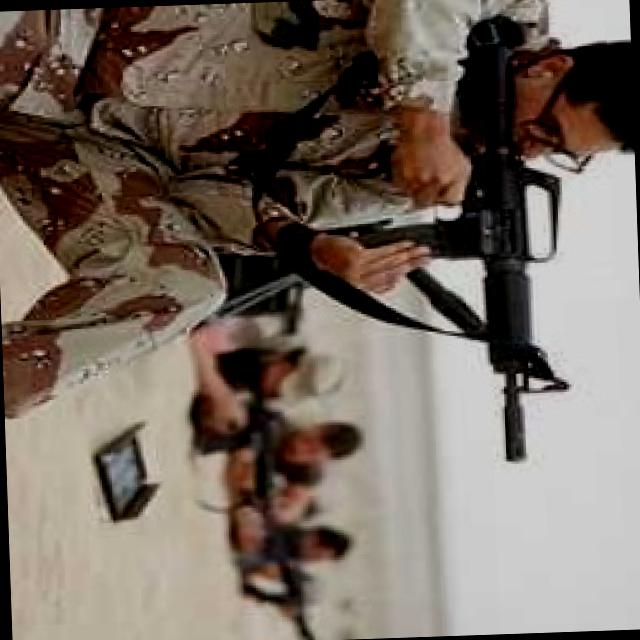long weapon: (359, 97, 579, 466)
